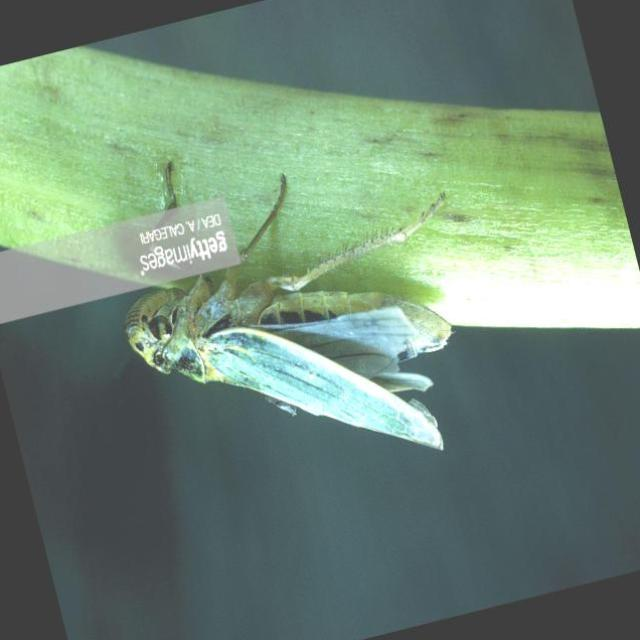green leaf hopper: (127, 222, 452, 449)
